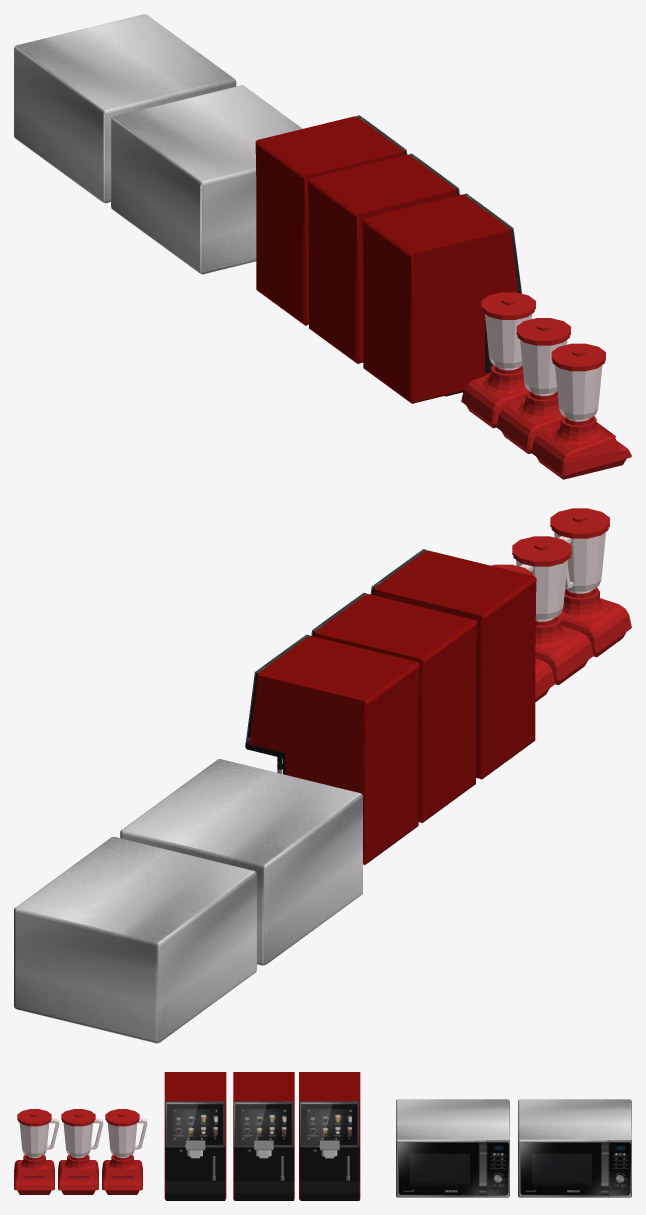
Rendered from Electrodomesticos.fbx.
The picture shows the model from 3 angles, top to bottom: view 1: azimuth 30°, elevation 25°; view 2: azimuth 150°, elevation 25°; view 3: azimuth 270°, elevation 25°; orthographic projection. The views are drawn at different scales.
Parts seen in each view (by area): view 1: Cafetera.001, Microondas, BatidoraCuerpo.001; view 2: Microondas, Cafetera.001, BatidoraCuerpo.001; view 3: Cafetera.001, Microondas, BatidoraCuerpo.001.
Part boxes in pixels (bbox=[...]): Cafetera.001: bbox=[255, 115, 521, 403]; Microondas: bbox=[14, 14, 302, 274]; BatidoraCuerpo.001: bbox=[461, 292, 631, 479]; Microondas: bbox=[14, 759, 362, 1043]; Cafetera.001: bbox=[245, 549, 536, 864]; BatidoraCuerpo.001: bbox=[491, 508, 631, 701]; Cafetera.001: bbox=[164, 1072, 360, 1200]; Microondas: bbox=[396, 1099, 631, 1197]; BatidoraCuerpo.001: bbox=[14, 1109, 147, 1194].
Bounding box in the file's own units: 53.36 × 55.53 × 325.
Materials: 13 (13 with a texture image).
